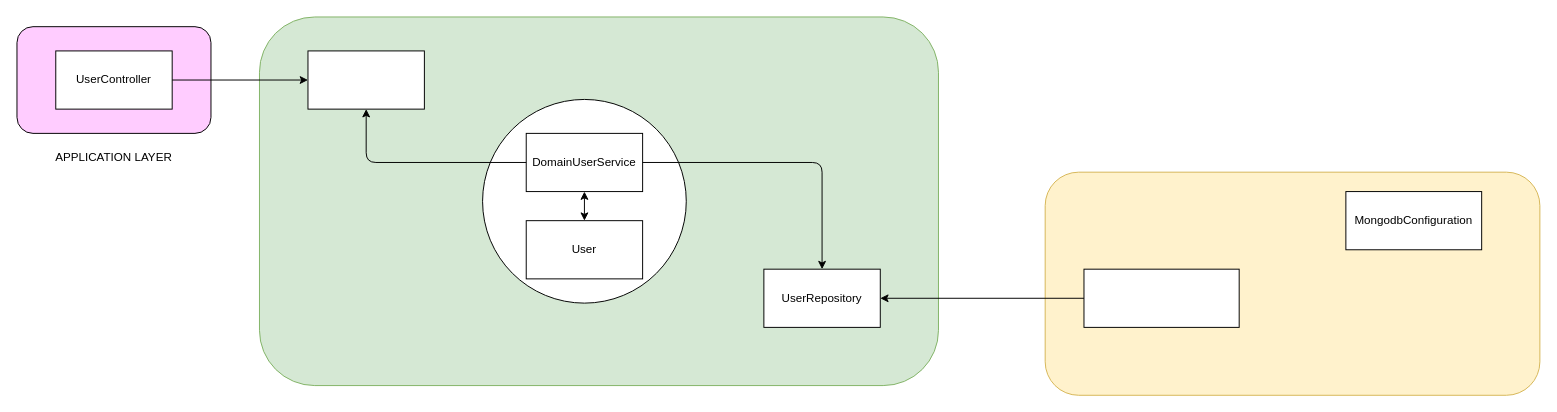
Some shapes in this 1557 by 412 pixel diagram are drawn without their labels. Each missing label, with the centre of its shape:
"MongoDbUserRepository" goes at (1161,297).
"UserService" goes at (365,79).
